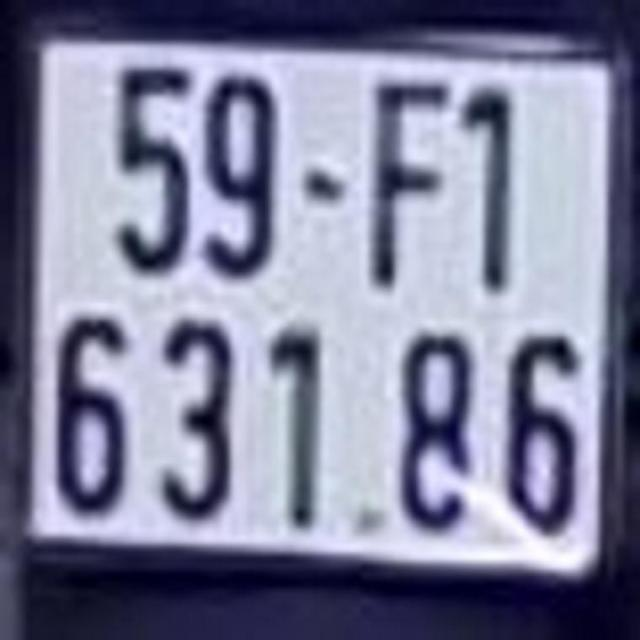1: (268, 307, 320, 527), (465, 81, 510, 296)
3: (161, 309, 229, 522)
5: (116, 59, 189, 274)
6: (55, 313, 131, 514), (510, 330, 582, 541)
8: (403, 325, 472, 528)
9: (205, 73, 275, 281)
F: (374, 80, 453, 297)
